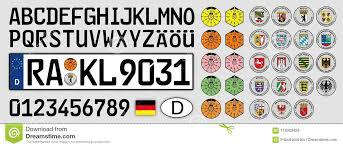0: (136, 58, 155, 86), (9, 98, 21, 117)
1: (172, 58, 190, 87), (21, 99, 33, 117)
2: (33, 99, 45, 117)
3: (154, 58, 175, 86), (45, 99, 57, 117)
4: (57, 98, 69, 117)
5: (70, 98, 82, 117)
6: (82, 98, 93, 117)
7: (94, 98, 106, 117)
8: (106, 98, 118, 117)
9: (118, 59, 137, 86), (118, 98, 131, 117)
A: (47, 59, 63, 85), (9, 8, 22, 25)
B: (20, 7, 34, 25)
C: (33, 7, 46, 25)
D: (171, 99, 184, 116), (46, 7, 58, 25)
E: (58, 7, 72, 25)
F: (71, 7, 83, 25)
G: (83, 7, 98, 25)
H: (96, 7, 110, 25)
I: (110, 7, 121, 25)
J: (120, 7, 132, 25)
K: (77, 59, 98, 86), (132, 7, 145, 25)
L: (97, 59, 118, 86), (145, 7, 158, 25)
M: (158, 6, 170, 26)
N: (170, 6, 183, 26)
O: (183, 7, 197, 26)
P: (8, 30, 22, 48)
Q: (22, 29, 35, 48)
R: (25, 58, 46, 85), (35, 29, 49, 47)
S: (48, 29, 63, 47)
T: (62, 29, 75, 47)
U: (74, 29, 89, 47)
V: (88, 29, 101, 48)
W: (102, 29, 116, 48)
X: (115, 29, 129, 48)
Y: (129, 29, 143, 48)
Z: (141, 29, 157, 48)
ae: (154, 29, 170, 48)
oe: (170, 28, 184, 48)
ue: (183, 29, 197, 48)
